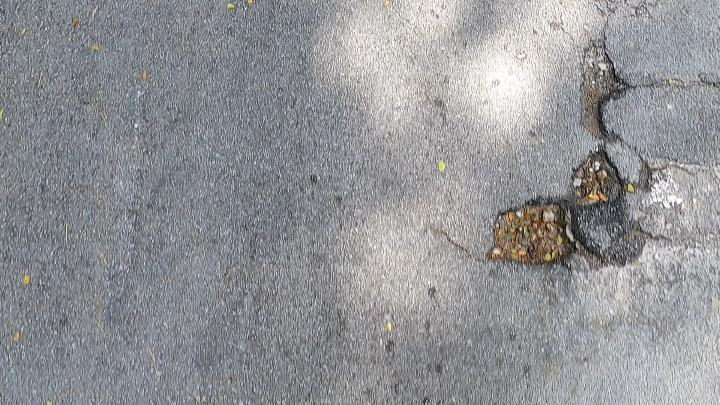Pothole: (483, 40, 705, 266), (489, 42, 700, 265)
